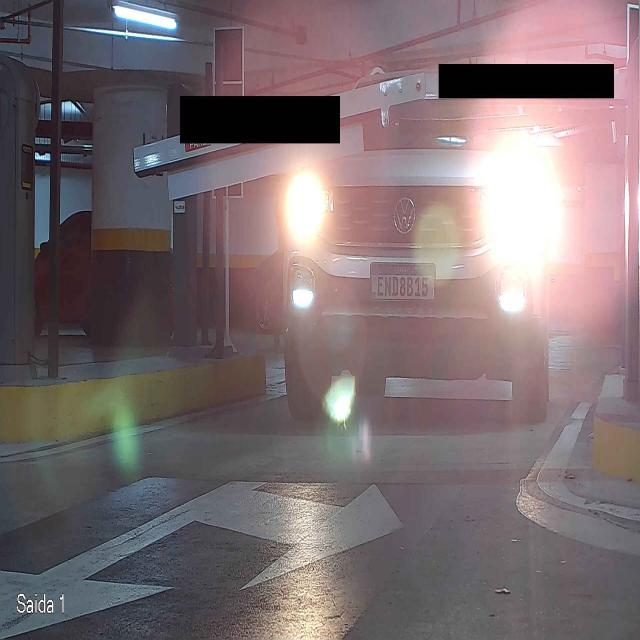mercosul_plate: (368, 262, 437, 301)
